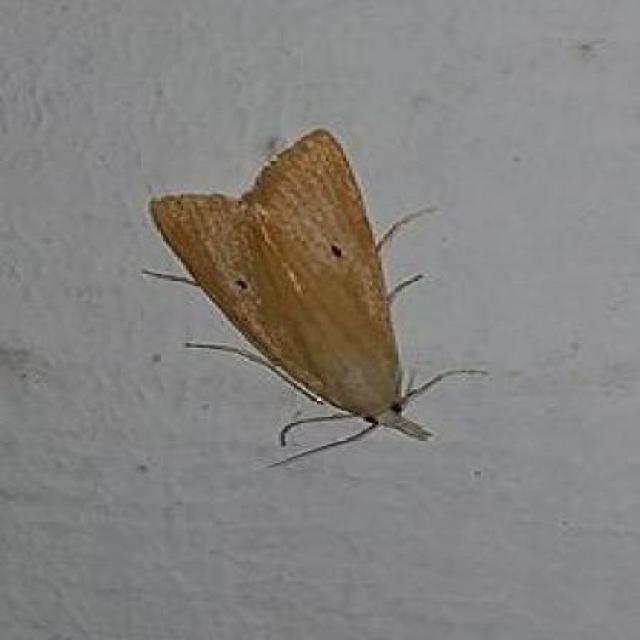stem-borer: (132, 126, 462, 463)
